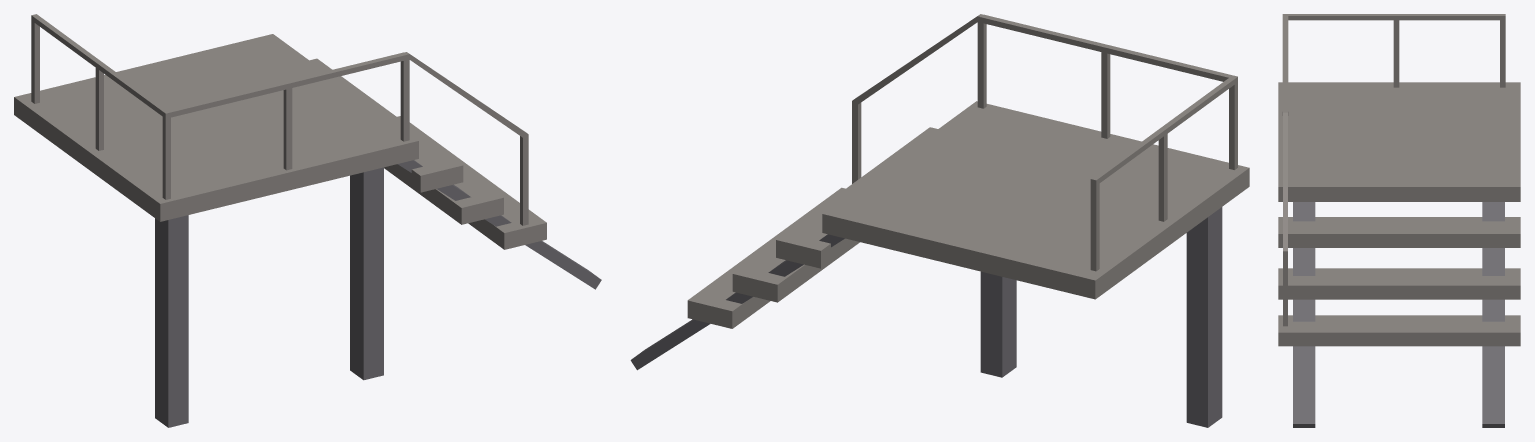
File: stair1.fbx
3 renders of one model, left to right at view 1: azimuth 30°, elevation 25°; view 2: azimuth 150°, elevation 25°; view 3: azimuth 270°, elevation 25°, orthographic. The views are drawn at different scales.
Parts seen in each view (by area): view 1: stair1; view 2: stair1; view 3: stair1.
Part boxes in pixels (box(x1,y1,x2,y2)): stair1: box(14, 14, 601, 427); stair1: box(630, 14, 1249, 427); stair1: box(1278, 14, 1520, 427).
Bounding box in the file's own units: 40.85 × 27.81 × 22.95.
